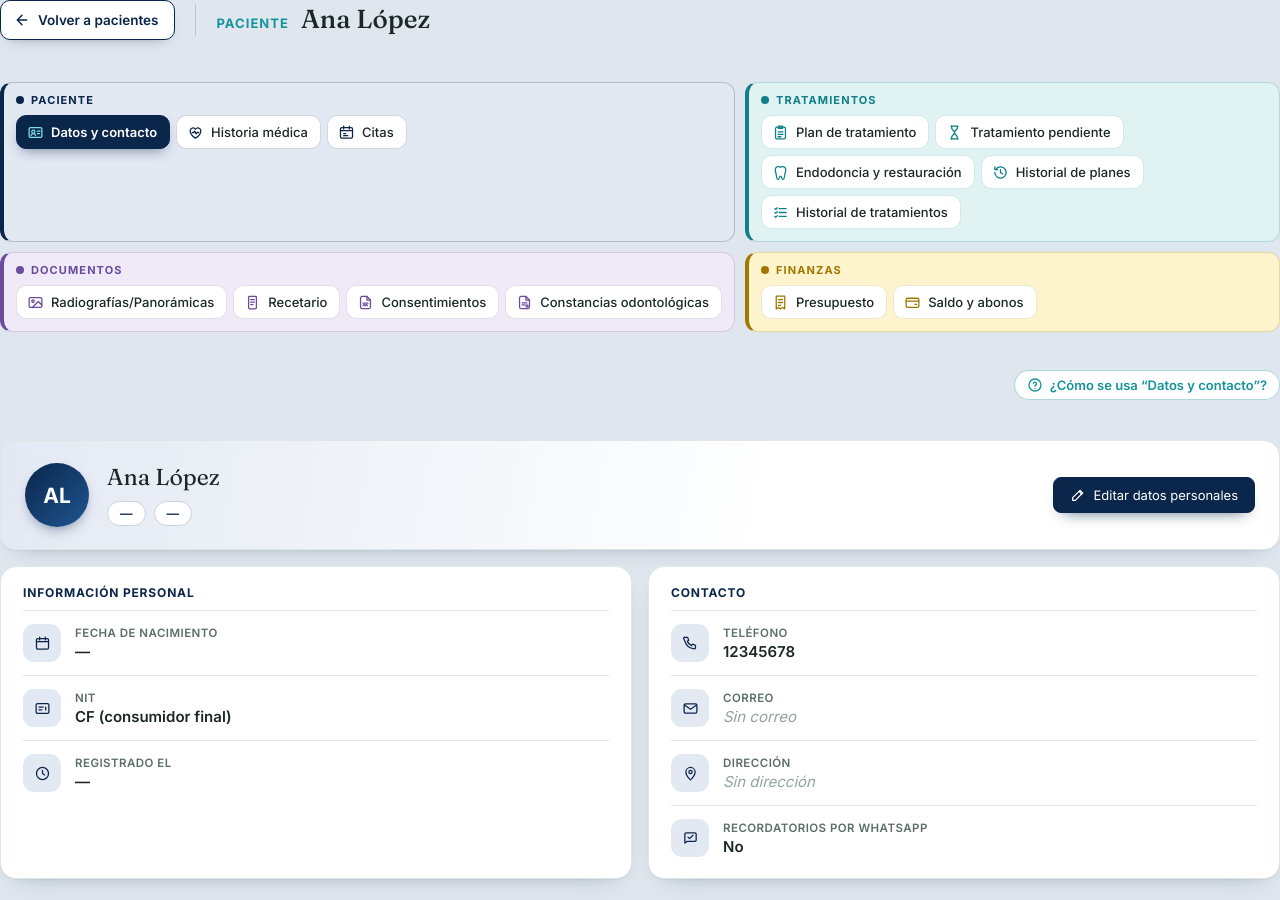
Test case: PacienteDetail - ayuda de cada pestaña (SCRUM-200) › SCRUM-204: la guía se puede cerrar en cualquier paso sin salir de la pestaña
Click the button "¿Cómo se usa “Datos y contacto”?".
click(1147, 385)  # box [1014, 370, 1279, 400]
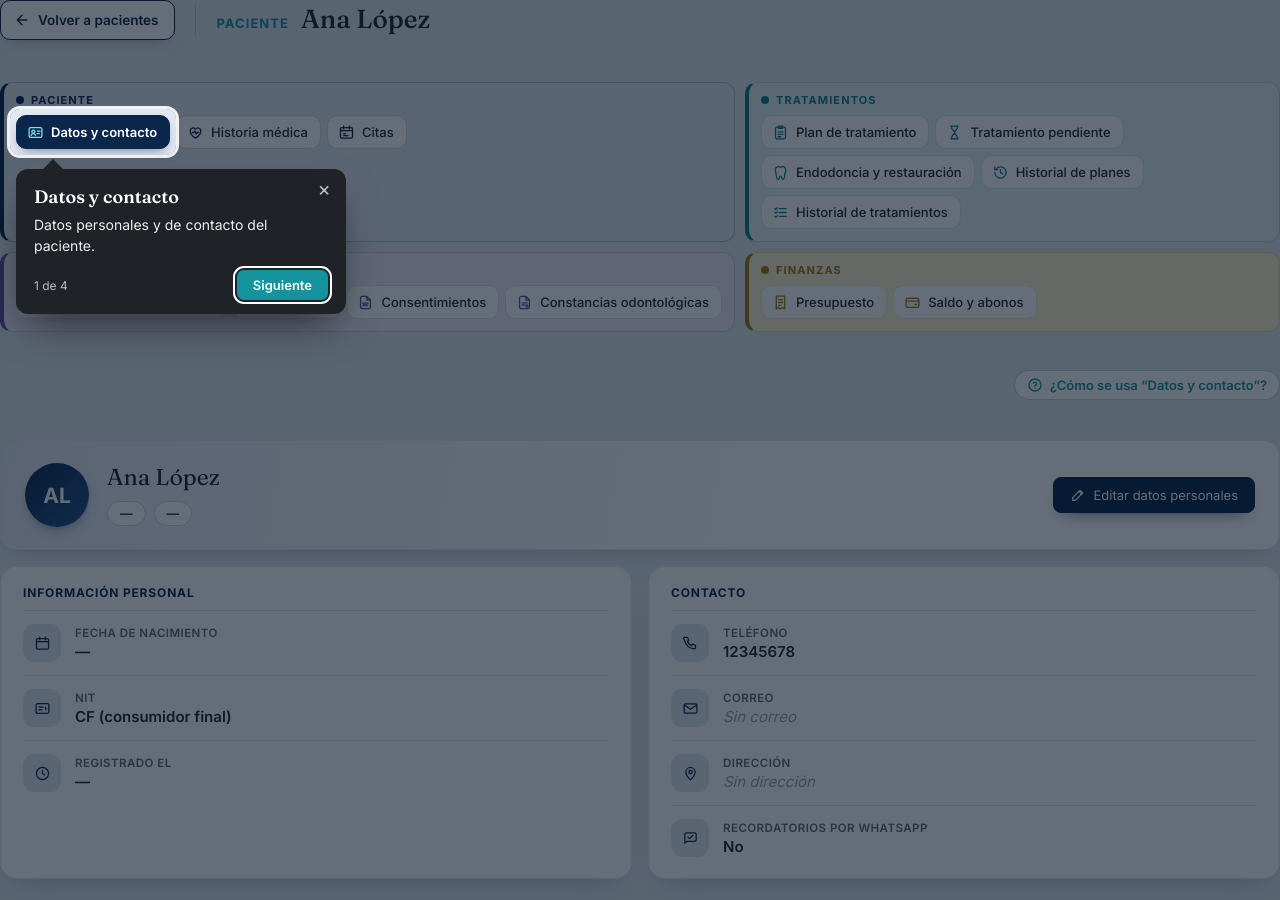
Click the button named "Salir de la guía".
click(324, 189)  # box [310, 175, 338, 203]
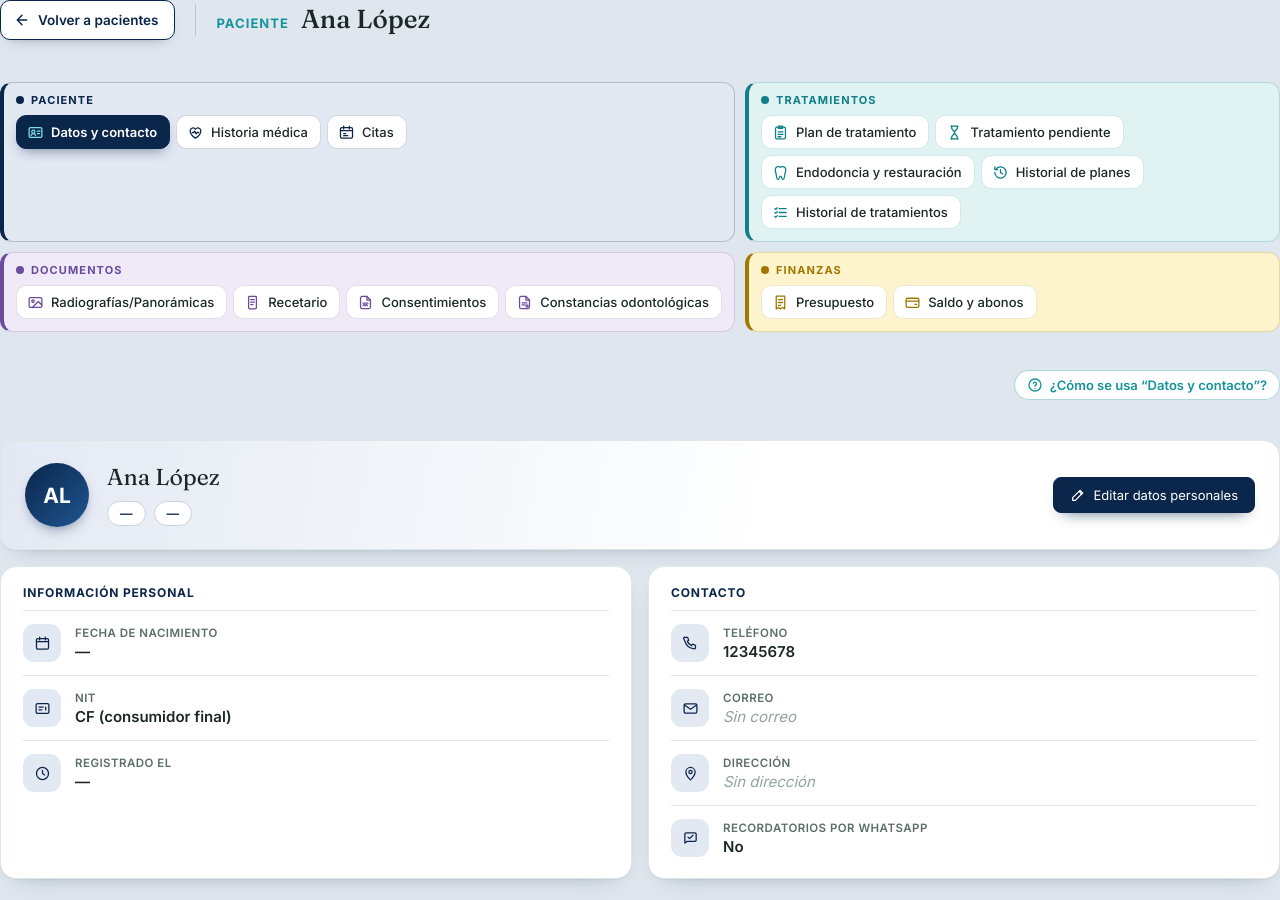
Check: the dialog is gone
